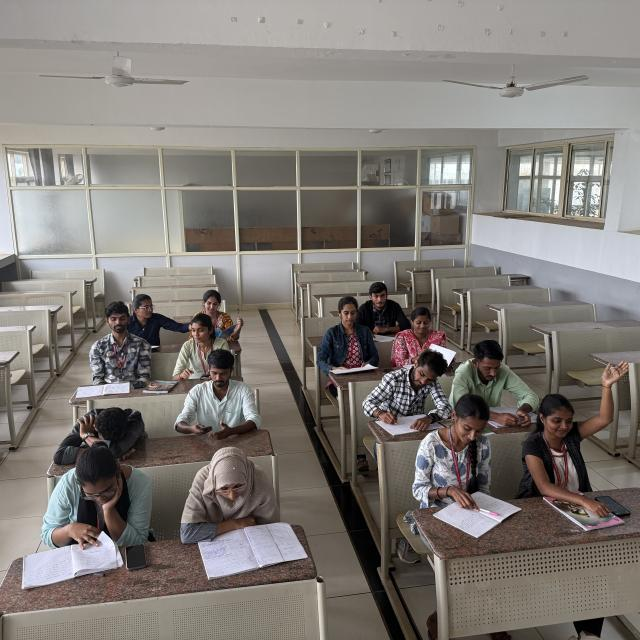Hand Rising: (516, 352, 628, 498)
Reading: (170, 456, 308, 573), (416, 397, 515, 535), (40, 450, 124, 571), (62, 303, 148, 396), (455, 340, 540, 426), (308, 293, 378, 383), (391, 310, 458, 370), (182, 291, 245, 339)
Sleeping: (46, 400, 160, 461)
Using Phone: (179, 354, 256, 434), (172, 317, 212, 378)
Writing: (362, 346, 454, 436)
